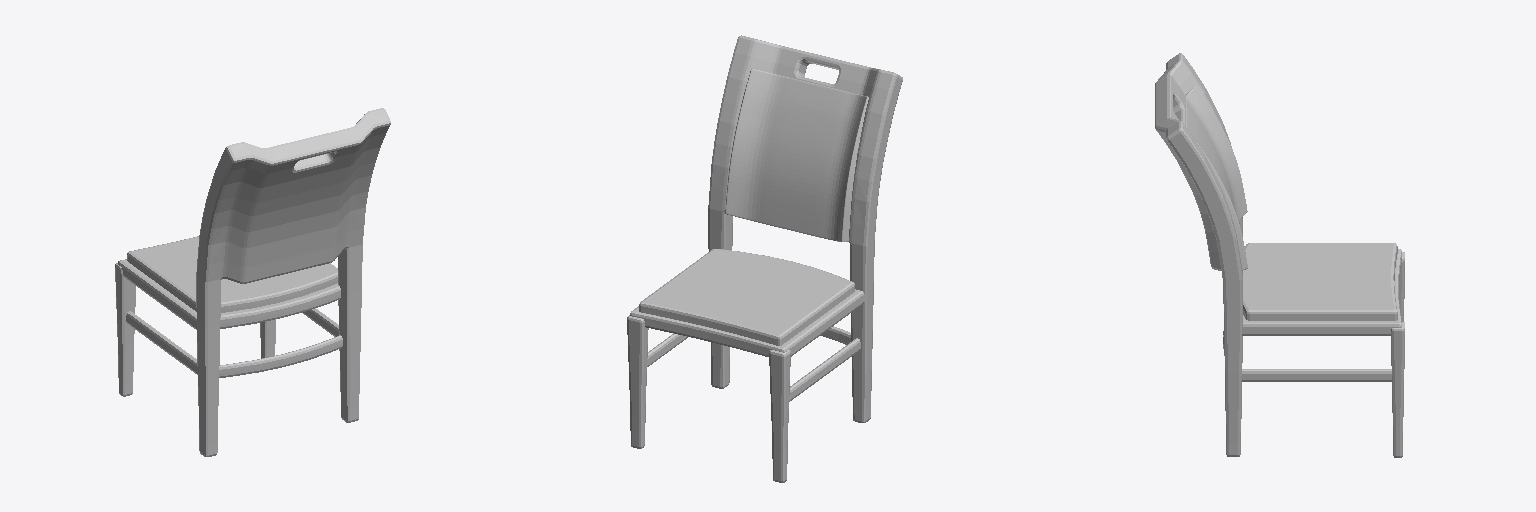
Rendered from Chair.obj.
3 renders of one model, left to right at view 1: azimuth 30°, elevation 25°; view 2: azimuth 150°, elevation 25°; view 3: azimuth 270°, elevation 25°, orthographic.
Parts seen in each view (by area): view 1: group37_pasted__group21_pasted__pasted__group19_pasted__pasted__; view 2: group37_pasted__group21_pasted__pasted__group19_pasted__pasted__, Chair_BackCushion; view 3: group37_pasted__group21_pasted__pasted__group19_pasted__pasted__, Chair_BackCushion.
Part boxes in pixels (left/top/right/bottom): group37_pasted__group21_pasted__pasted__group19_pasted__pasted__: left=115, top=108, right=390, bottom=456; group37_pasted__group21_pasted__pasted__group19_pasted__pasted__: left=627, top=35, right=902, bottom=482; Chair_BackCushion: left=725, top=68, right=868, bottom=241; group37_pasted__group21_pasted__pasted__group19_pasted__pasted__: left=1155, top=53, right=1404, bottom=457; Chair_BackCushion: left=1186, top=86, right=1247, bottom=270.
Bounding box in the file's own units: 1.14 × 2.27 × 1.56.